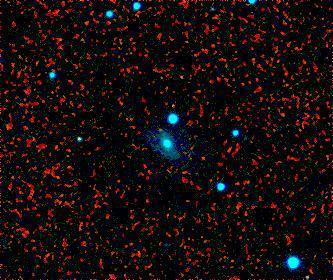star: (154, 80, 184, 110)
